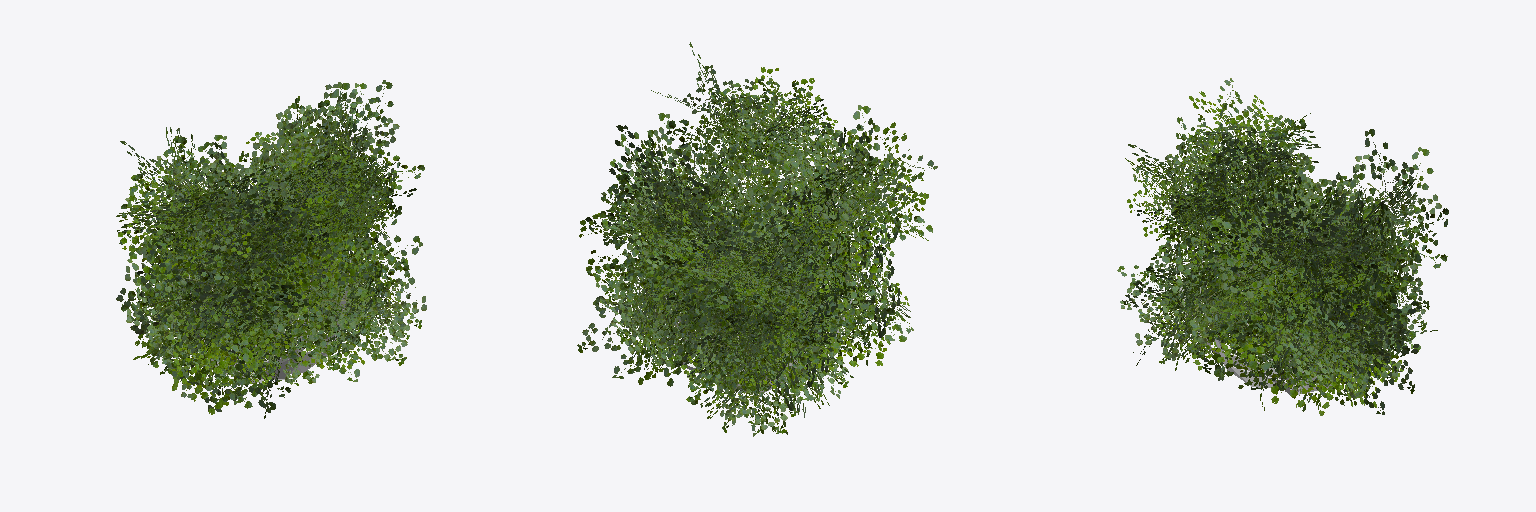
3 views of the same model, side by side, from view 1: azimuth 30°, elevation 25°; view 2: azimuth 150°, elevation 25°; view 3: azimuth 270°, elevation 25° (orthographic).
Parts seen in each view (by area): view 1: Foliage__leafcard, Bark; view 2: Foliage__leafcard; view 3: Foliage__leafcard, Bark.
Part boxes in pixels (x1,y1,x2,y2): Foliage__leafcard: (116,80,426,418); Bark: (189,250,358,382); Foliage__leafcard: (577,42,937,436); Foliage__leafcard: (1117,78,1448,415); Bark: (1174,239,1339,394).
Size of the model in its own units: 3.61 by 3.5 by 3.3.
Materials: 2 (1 with a texture image).